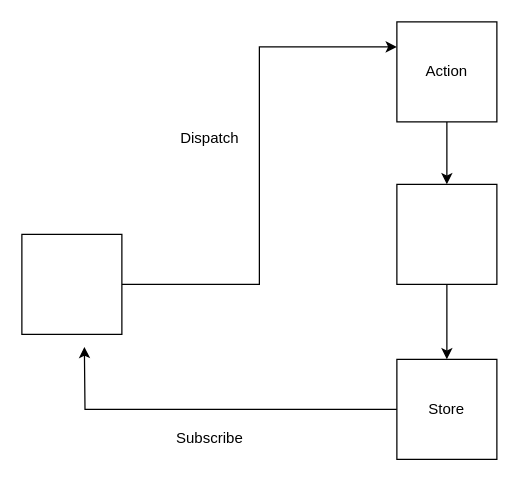
Image size: 519x481. Some labels were removed from this diagram. Here are the shapes that lost their labels. From the top down, the box of each, then its label:
(396, 183, 497, 284): Reducer
(21, 233, 122, 334): React UI
